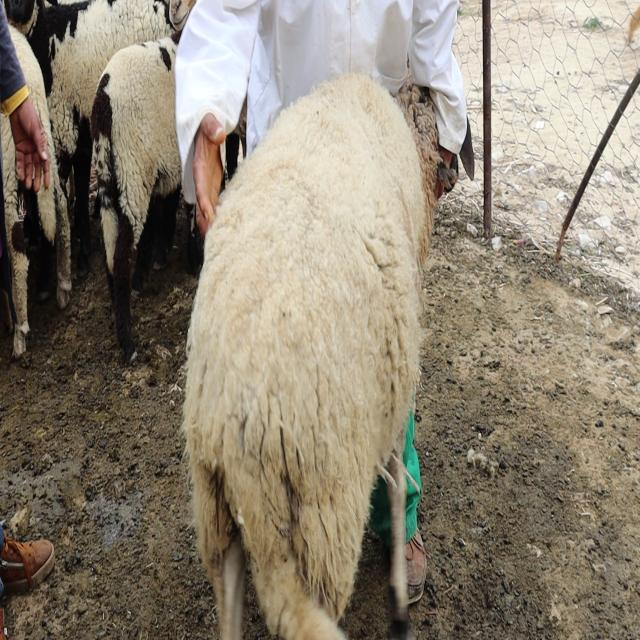Score_5: (184, 73, 457, 639)
